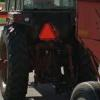Tractor: (2, 1, 88, 97)
